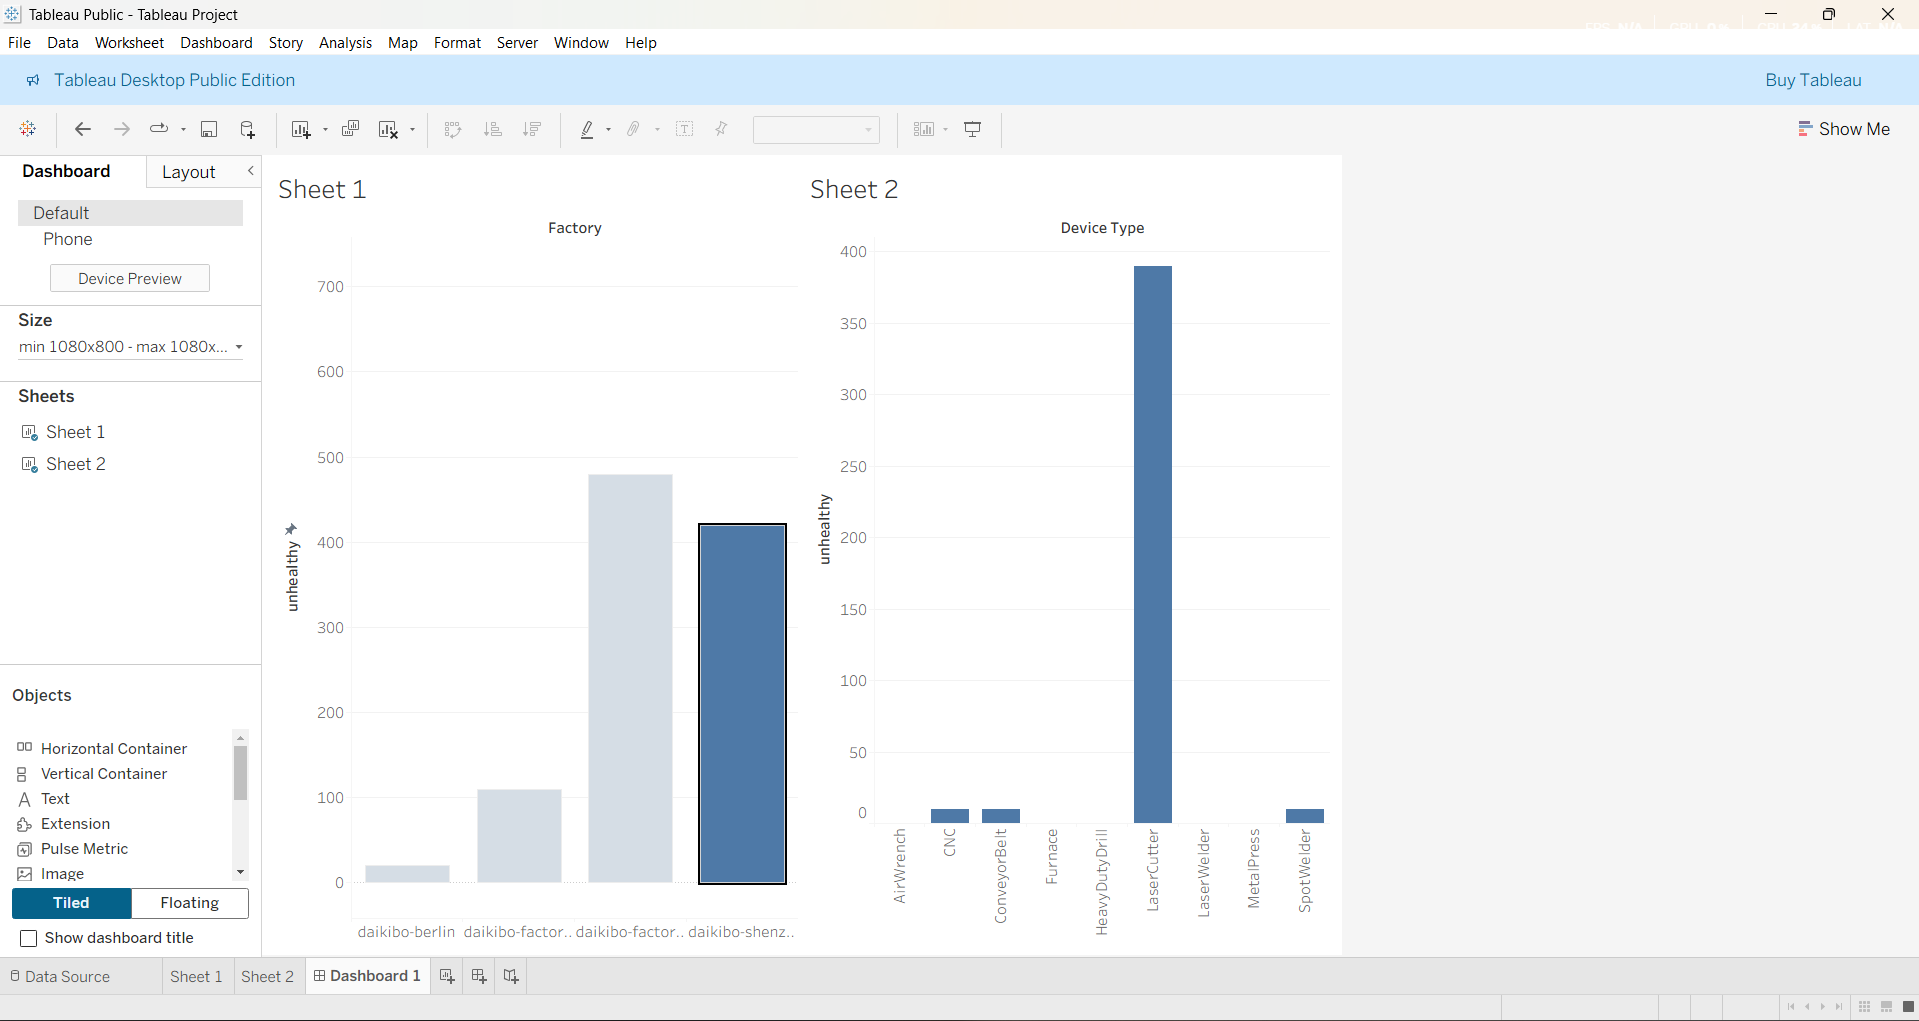

The page's visual inventory and layout, read from the dashboard file:
{"tool":"tableau","page":{"name":"Dashboard 1","canvas":[1080,800],"ordinal":0},"visuals":[{"type":"worksheet","title":"Sheet 1","mark":"Automatic","rows":["Calculation_0412890104209408"],"cols":["factory"],"box":[8,8,532,784]},{"type":"worksheet","title":"Sheet 2","mark":"Automatic","rows":["Calculation_0412890104209408"],"cols":["deviceType"],"box":[540,8,532,784]}]}

Visuals, with their boxes on the page's 1080x800 design canvas (x1, y1, x2, y2). These are canvas units, not pixel positions in the 1919x1021 screenshot, which may show the page scaled, cropped or inside an application window:
"Sheet 1" worksheet: {"x1": 8, "y1": 8, "x2": 540, "y2": 792}
"Sheet 2" worksheet: {"x1": 540, "y1": 8, "x2": 1072, "y2": 792}
